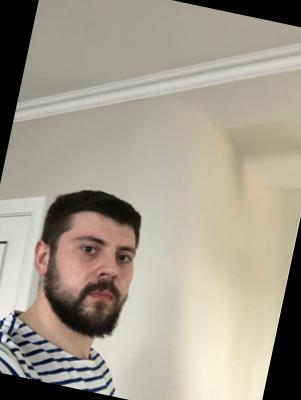without_mask: (47, 220, 142, 346)
